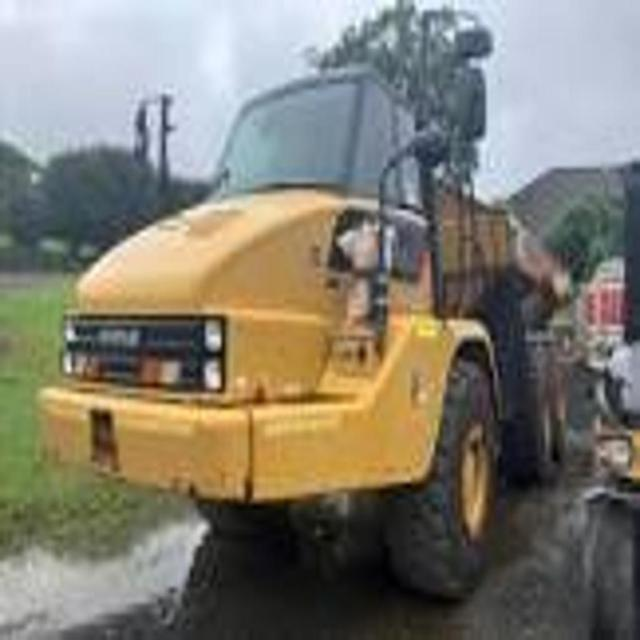dump_truck: (49, 62, 574, 608)
